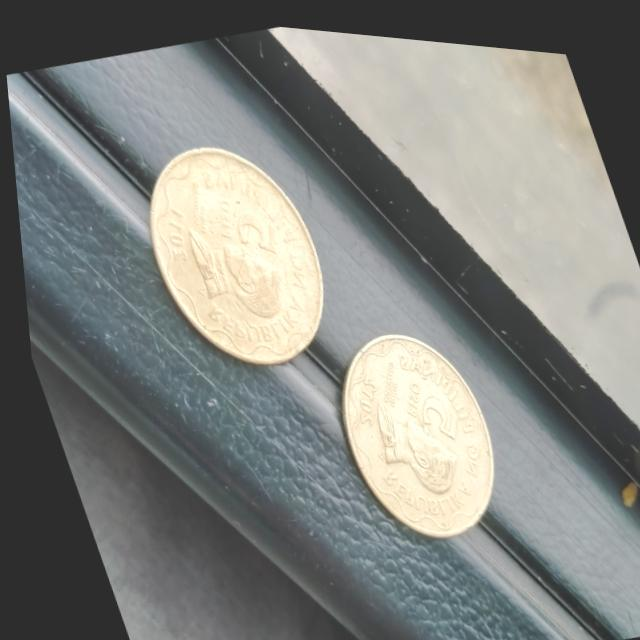5_Old_Front: (197, 171, 284, 272), (387, 354, 465, 451)
